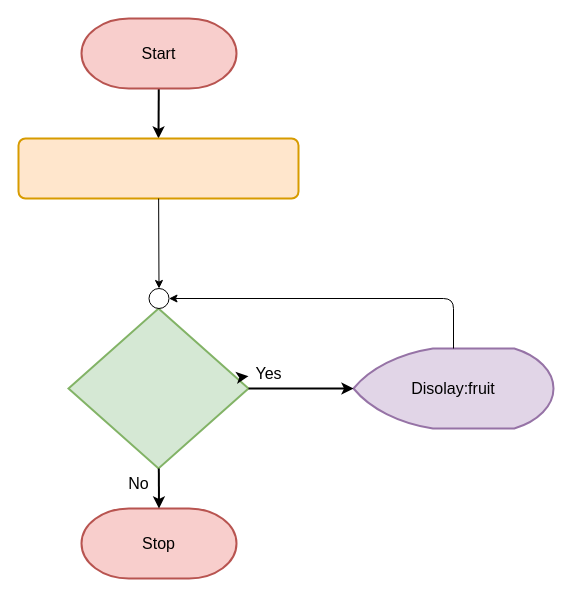
Image size: 571x596. Some labels were removed from this diagram. Each missing label, with the centre of its shape:
for fruit in fruits?: the point at 158,388
fruits = ["apple", "banana", "cherry"]: the point at 158,168
